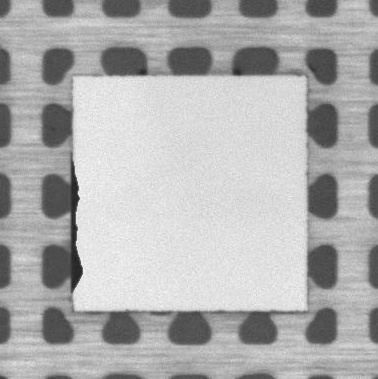DIE_BROKEN: (68, 148, 85, 293)
